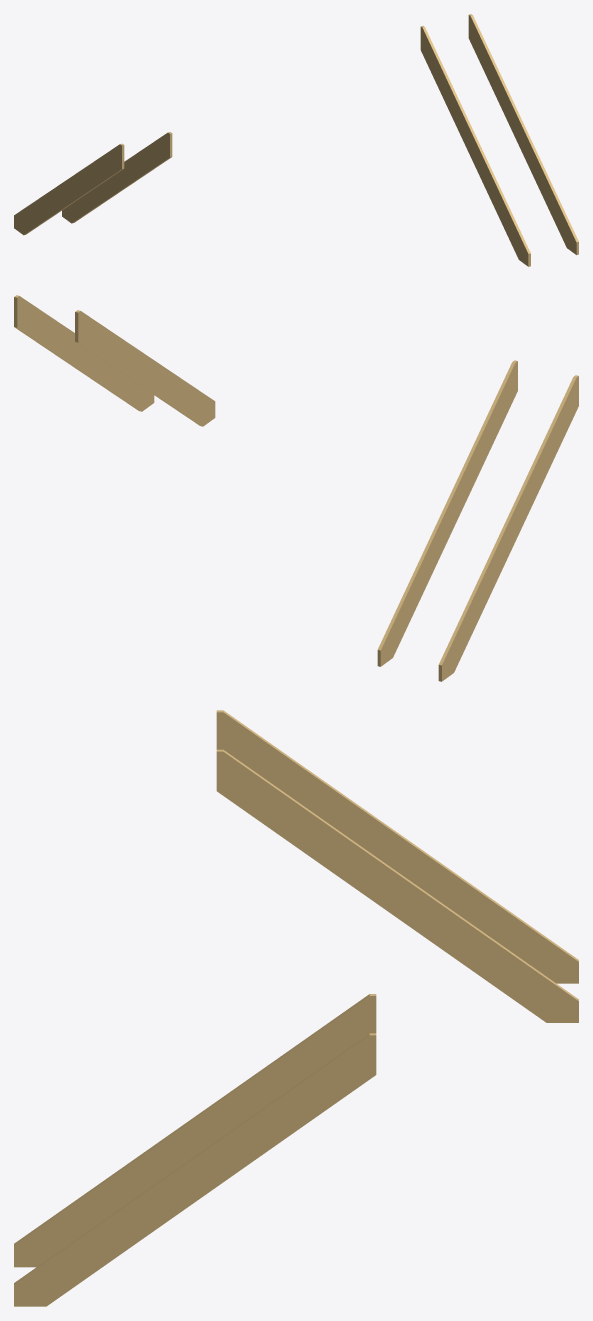
The model's file is IfcMember.fbx.
The picture shows the model from 3 angles, top to bottom: view 1: azimuth 30°, elevation 25°; view 2: azimuth 150°, elevation 25°; view 3: azimuth 270°, elevation 25°; orthographic projection. The views are drawn at different scales.
Visible parts, largest first — view 1: Stair:151086 (×2), Stair:198878 (×2); view 2: Stair:198878 (×2), Stair:151086 (×2); view 3: Stair:151086 (×2), Stair:198878 (×2).
Boxes of the visible parts, left/top/right/bottom form: Stair:151086 (×2): left=420, top=14, right=578, bottom=266; Stair:198878 (×2): left=14, top=132, right=172, bottom=235; Stair:198878 (×2): left=377, top=360, right=578, bottom=681; Stair:151086 (×2): left=14, top=295, right=215, bottom=426; Stair:151086 (×2): left=14, top=994, right=376, bottom=1306; Stair:198878 (×2): left=216, top=710, right=578, bottom=1022.
Size of the model in its own units: 7.97 by 5.85 by 3.1.
